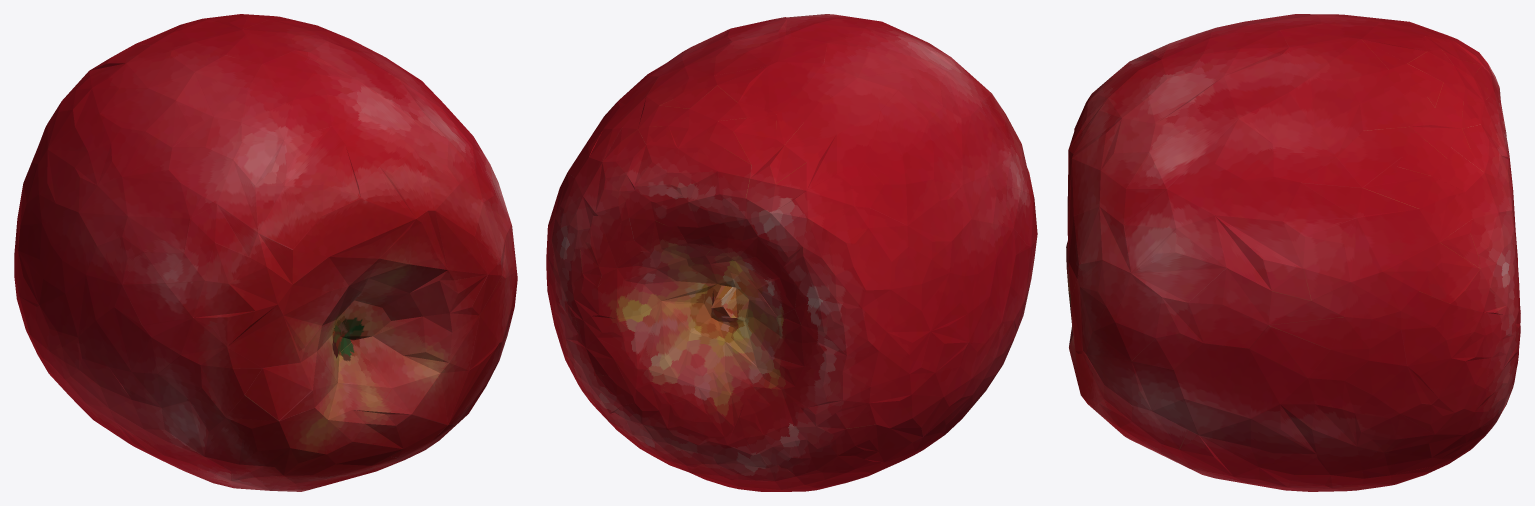
Rendered from ycb_apple_metric_fp.obj.
3 views of the same model, side by side, from view 1: azimuth 30°, elevation 25°; view 2: azimuth 150°, elevation 25°; view 3: azimuth 270°, elevation 25° (orthographic). The views are drawn at different scales.
Size of the model in its own units: 0.0755 by 0.0748 by 0.0721.
Materials: 1 (1 with a texture image).
